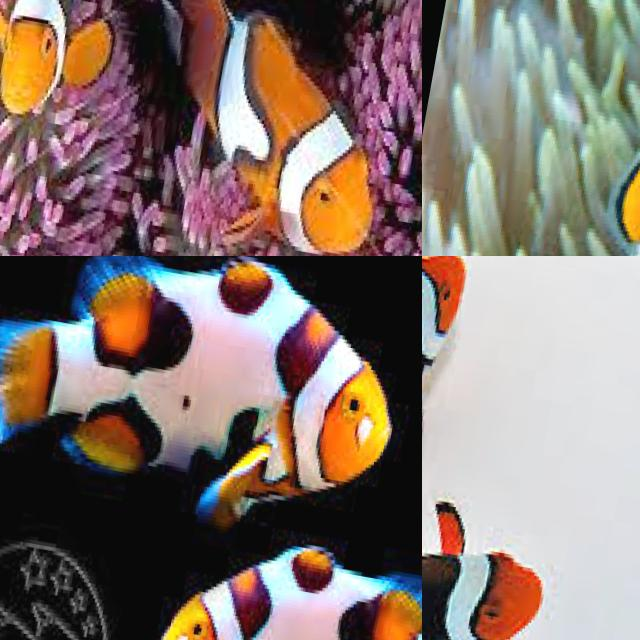Amphiprion-percula: (0, 256, 422, 557), (87, 0, 422, 256), (422, 256, 599, 640), (90, 506, 422, 640), (422, 447, 632, 640), (531, 0, 640, 256), (0, 0, 148, 169)
